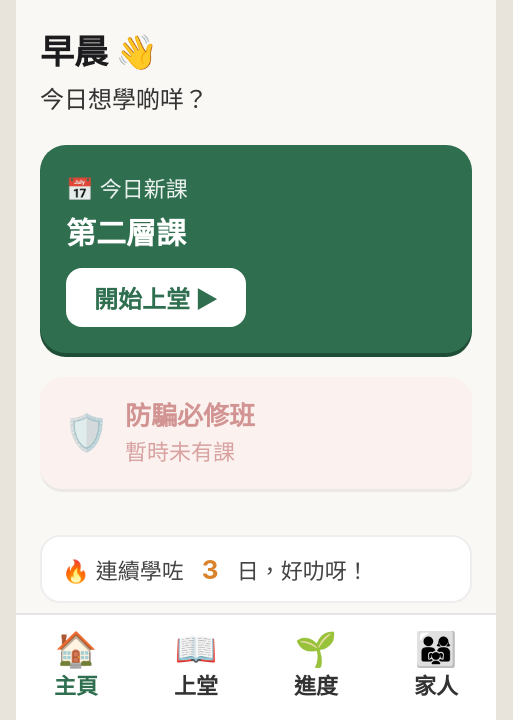
Test: App course engine (elder) › tapping a layer card on the 進度 tab navigates to the 上堂 lesson list (not into a specific lesson)
Click the button "🌱 進度".
click(316, 667)  # box [256,615,376,719]
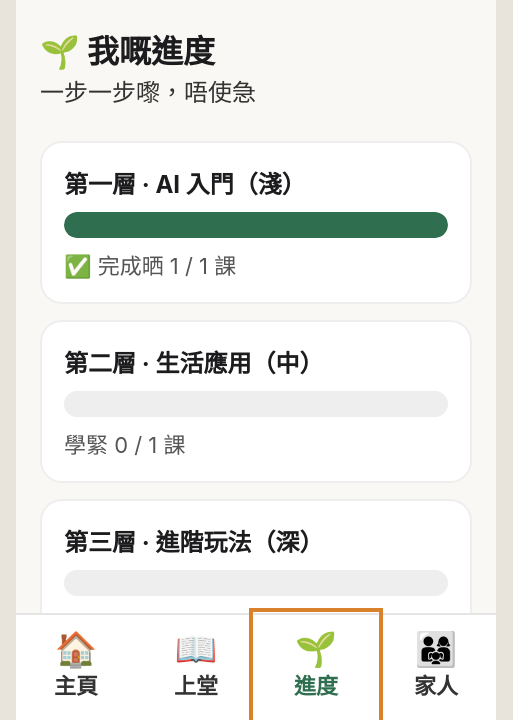
Expected: the text "✅ 完成晒 1 / 1 課" is shown, [64,253,236,279]
Click the button "第一層 · AI 入門（淺） ✅ 完成晒 1 / 1 課".
click(256, 222)  # box [40,141,472,304]
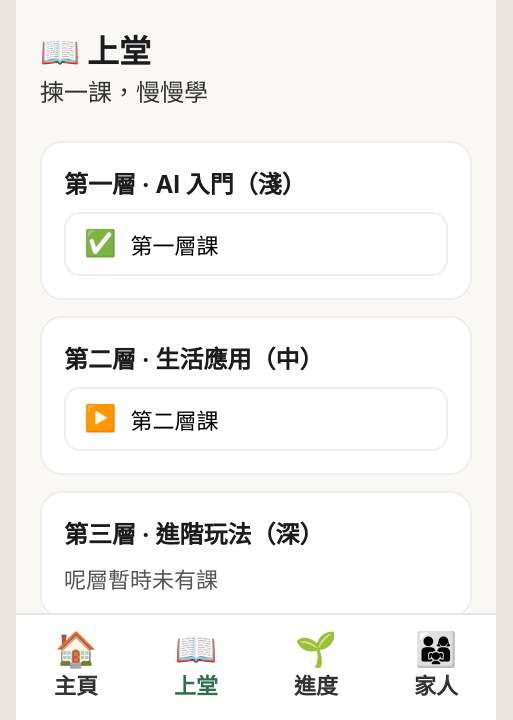
Expected: the text "揀一課，慢慢學" is shown, [40,78,208,107]
